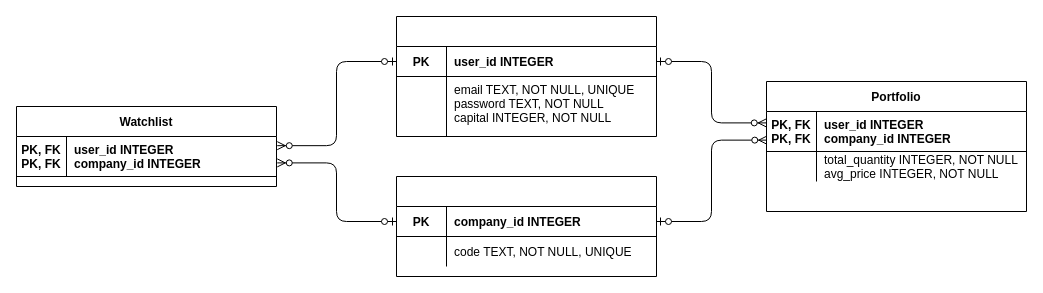
Image size: 1043x293. Some labels were removed from this diagram. The box of each missing label's shape, as (x1, y1, x2, y2) in pixels:
Account: (396, 16, 656, 136)
Company_Code: (396, 176, 656, 276)
